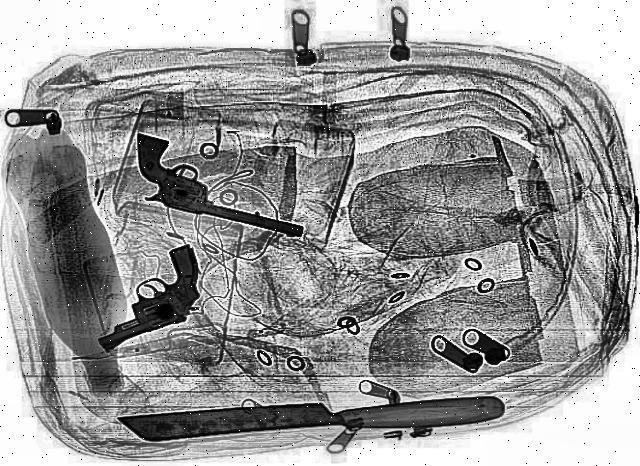Gun: (105, 132, 332, 240), (56, 242, 242, 354)
Knife: (118, 390, 508, 444)
